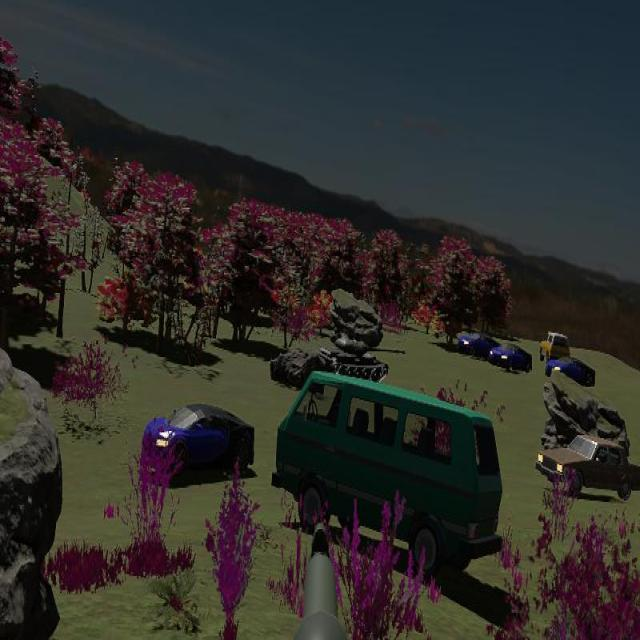Tank: (316, 334, 406, 385)
car: (272, 373, 505, 580), (140, 402, 255, 484), (535, 433, 640, 502), (545, 355, 596, 389), (488, 341, 533, 374), (456, 330, 498, 360), (540, 331, 571, 365)
